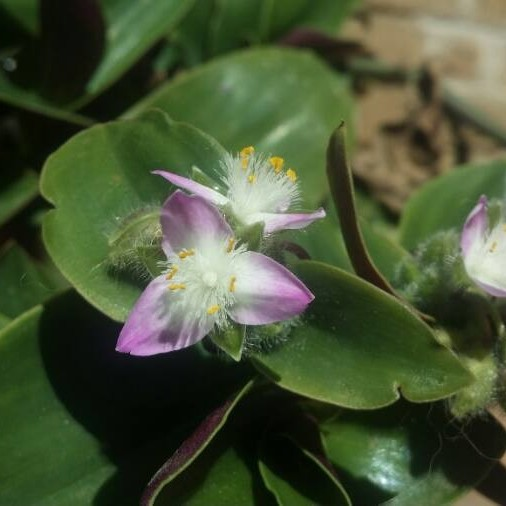obstacle: (63, 88, 484, 460)
